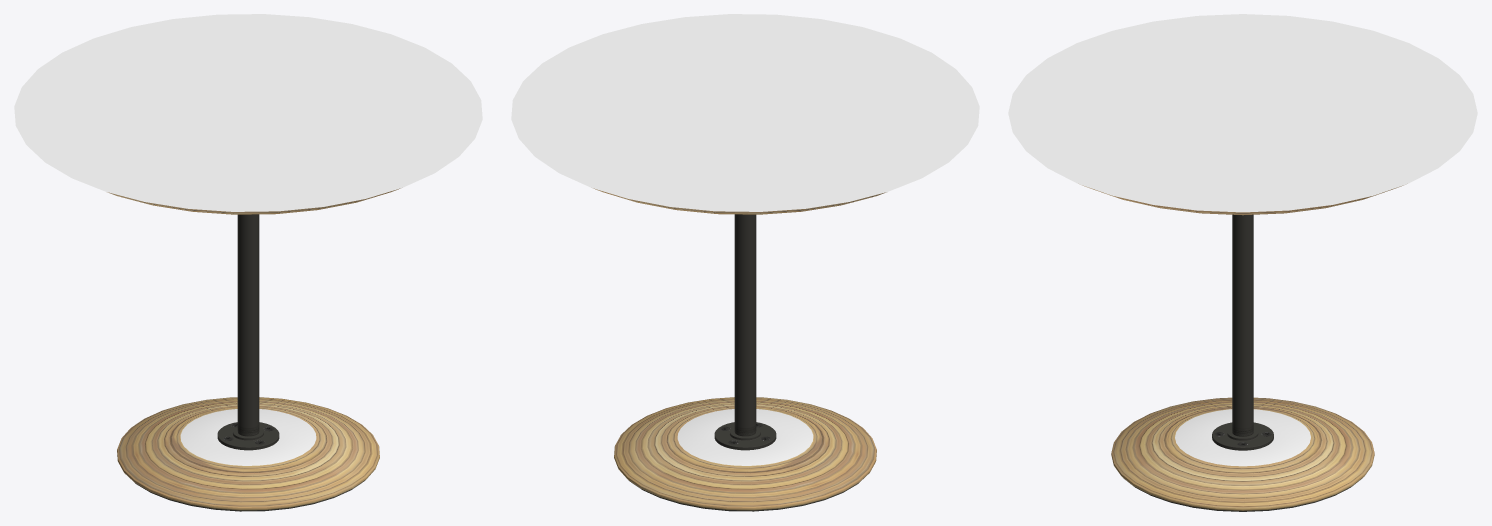
File: TulipTable - White.glb
3 renders of one model, left to right at view 1: azimuth 30°, elevation 25°; view 2: azimuth 150°, elevation 25°; view 3: azimuth 270°, elevation 25°, orthographic.
Parts seen in each view (by area): view 1: TulipTableWhite; view 2: TulipTableWhite; view 3: TulipTableWhite.
Part boxes in pixels (<box>): TulipTableWhite: <box>14,14,482,511</box>; TulipTableWhite: <box>511,14,979,511</box>; TulipTableWhite: <box>1008,14,1477,511</box>.
Bounding box in the file's own units: 0.8943 × 0.7238 × 0.8943.
2 materials, 2 textured.
